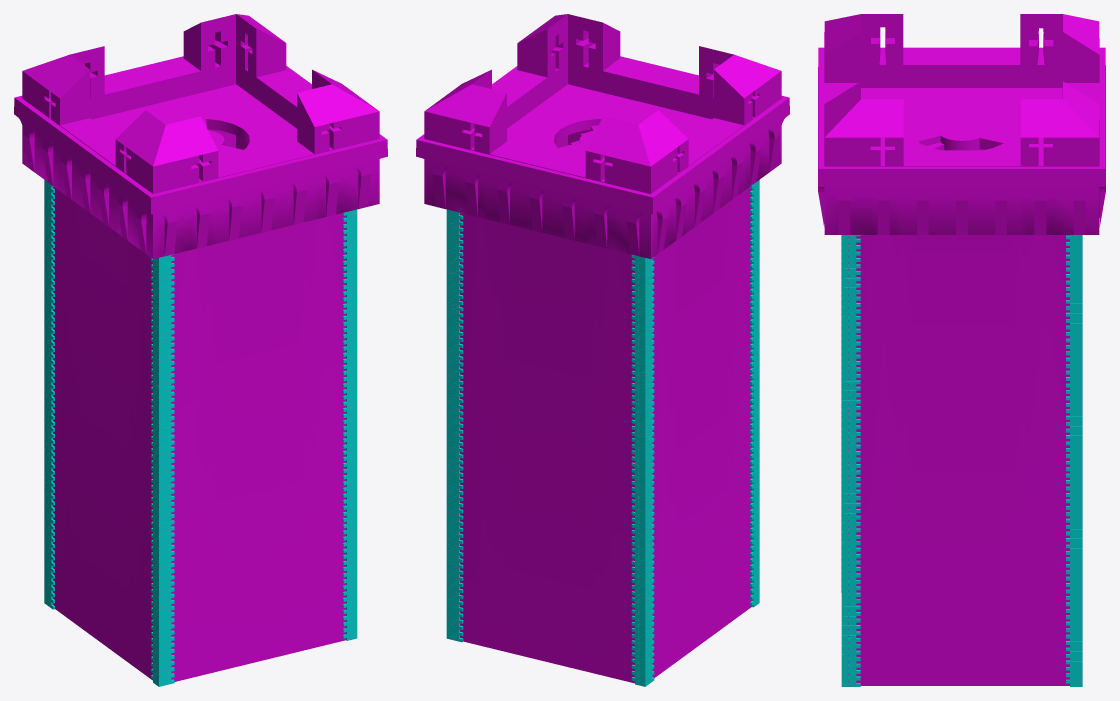
Rendered from Tower.fbx.
The picture shows the model from 3 angles, left to right: view 1: azimuth 30°, elevation 25°; view 2: azimuth 150°, elevation 25°; view 3: azimuth 270°, elevation 25°; orthographic projection. The views are drawn at different scales.
Parts seen in each view (by area): view 1: castle:polySurface564, castle:polySurface2836; view 2: castle:polySurface564, castle:polySurface2836; view 3: castle:polySurface564, castle:polySurface2836.
Part boxes in pixels (box(x1,y1,x2,y2)): castle:polySurface564: box(14, 14, 387, 681); castle:polySurface2836: box(44, 180, 357, 686); castle:polySurface564: box(416, 14, 789, 683); castle:polySurface2836: box(446, 180, 759, 686); castle:polySurface564: box(818, 14, 1105, 685); castle:polySurface2836: box(841, 235, 1082, 686).
Size of the model in its own units: 1152 by 2559 by 1152.
